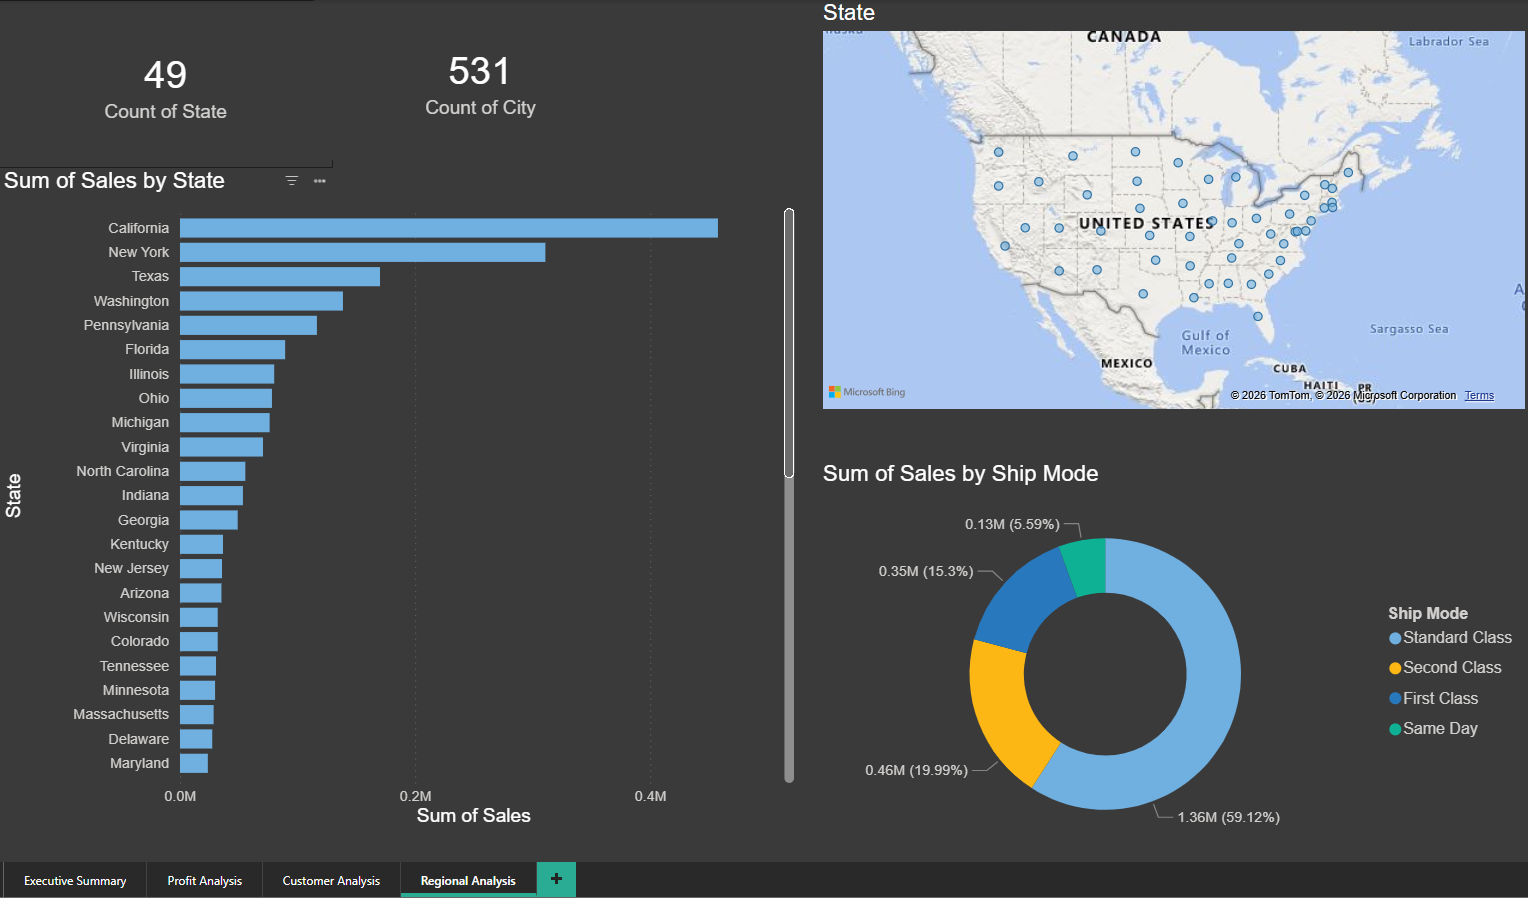

The dashboard page shown, as its layout file describes it:
{"tool":"powerbi","page":{"name":"Regional Analysis","canvas":[1280,720],"ordinal":3},"visuals":[{"type":"map","fields":{"Category":["superstore_clean.State"]},"box":[683.8,165.3,596.2,254.8],"z":0},{"type":"barChart","fields":{"Category":["superstore_clean.State"],"Y":["Sum(superstore_clean.Sales)"]},"box":[14.6,165.3,669.2,554.4],"z":1000},{"type":"donutChart","fields":{"Category":["superstore_clean.Ship Mode"],"Y":["Sum(superstore_clean.Sales)"]},"box":[683.8,439.6,596.2,280.1],"z":2000},{"type":"card","fields":{"Values":["Count(superstore_clean.State)"]},"box":[0,0,280.1,140.1],"z":3000},{"type":"card","fields":{"Values":["Count(superstore_clean.City)"]},"box":[263.6,0,278.2,149.8],"z":4000}]}

Visuals, with their boxes on the page's 1280x720 design canvas (x1, y1, x2, y2). These are canvas units, not pixel positions in the 1528x898 screenshot, which may show the page scaled, cropped or inside an application window:
map - superstore_clean.State: 684 165 1280 420
barChart - superstore_clean.State x Sum(superstore_clean.Sales): 15 165 684 720
donutChart - superstore_clean.Ship Mode x Sum(superstore_clean.Sales): 684 440 1280 720
card - Count(superstore_clean.State): 0 0 280 140
card - Count(superstore_clean.City): 264 0 542 150
